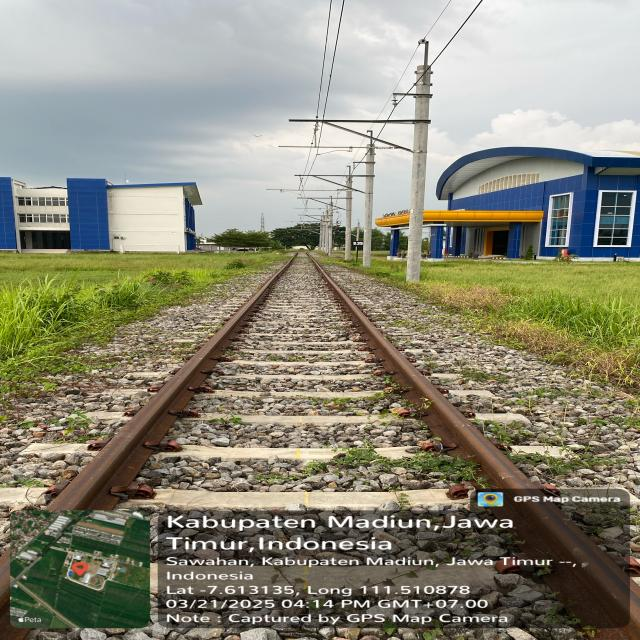rail-detection: (306, 252, 637, 627), (49, 252, 298, 511)
